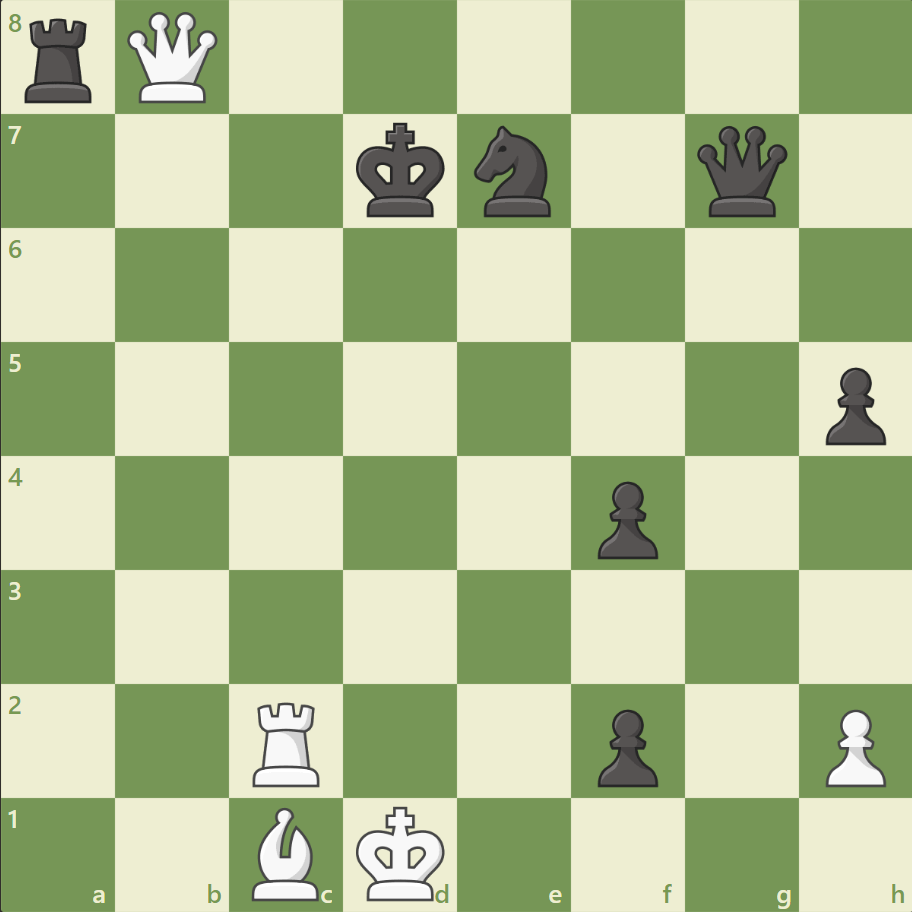B: (244, 801, 328, 904)
K: (351, 798, 451, 906)
P: (815, 700, 889, 791)
Q: (124, 9, 223, 108)
R: (246, 693, 329, 790)
k: (351, 117, 451, 225)
n: (465, 121, 562, 223)
p: (815, 359, 889, 450), (588, 473, 662, 564), (588, 700, 662, 791)
q: (691, 122, 790, 222)
r: (19, 12, 102, 109)
